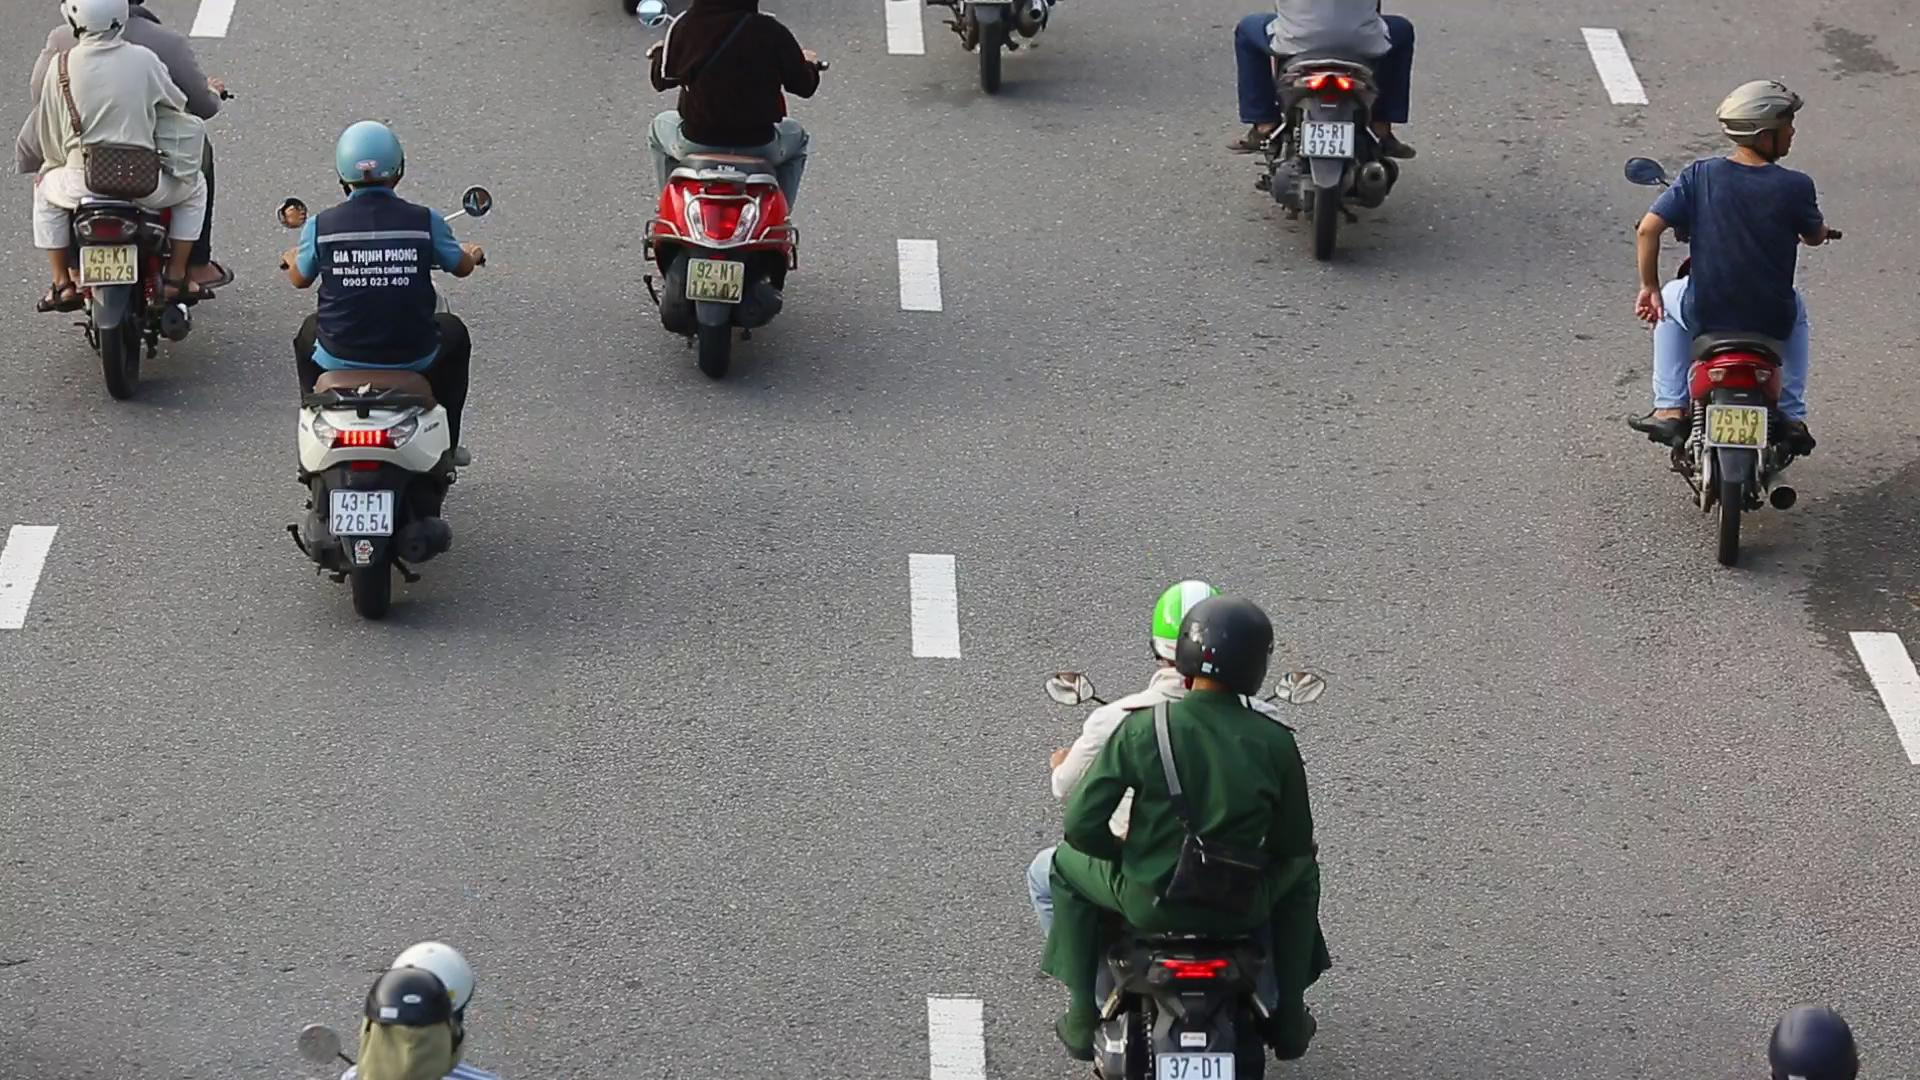motobike: (260, 113, 514, 615), (1610, 58, 1849, 564)
